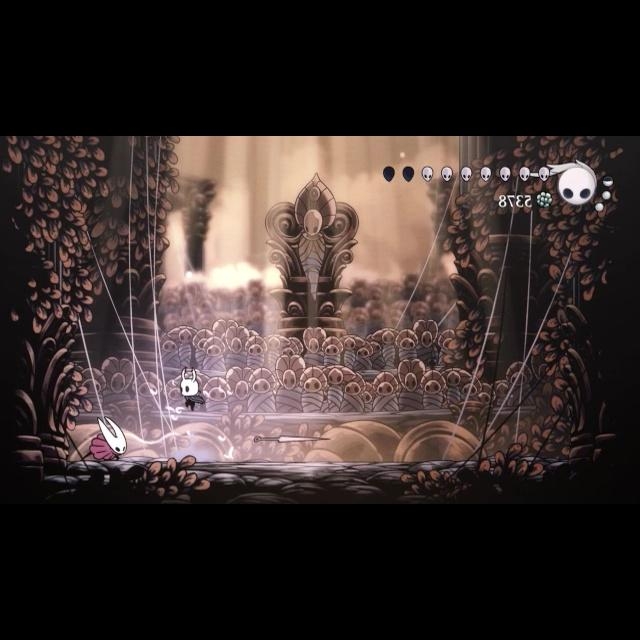Enemy: (74, 410, 130, 466)
NailAttack: (252, 428, 334, 450)
Player: (174, 363, 212, 417)
